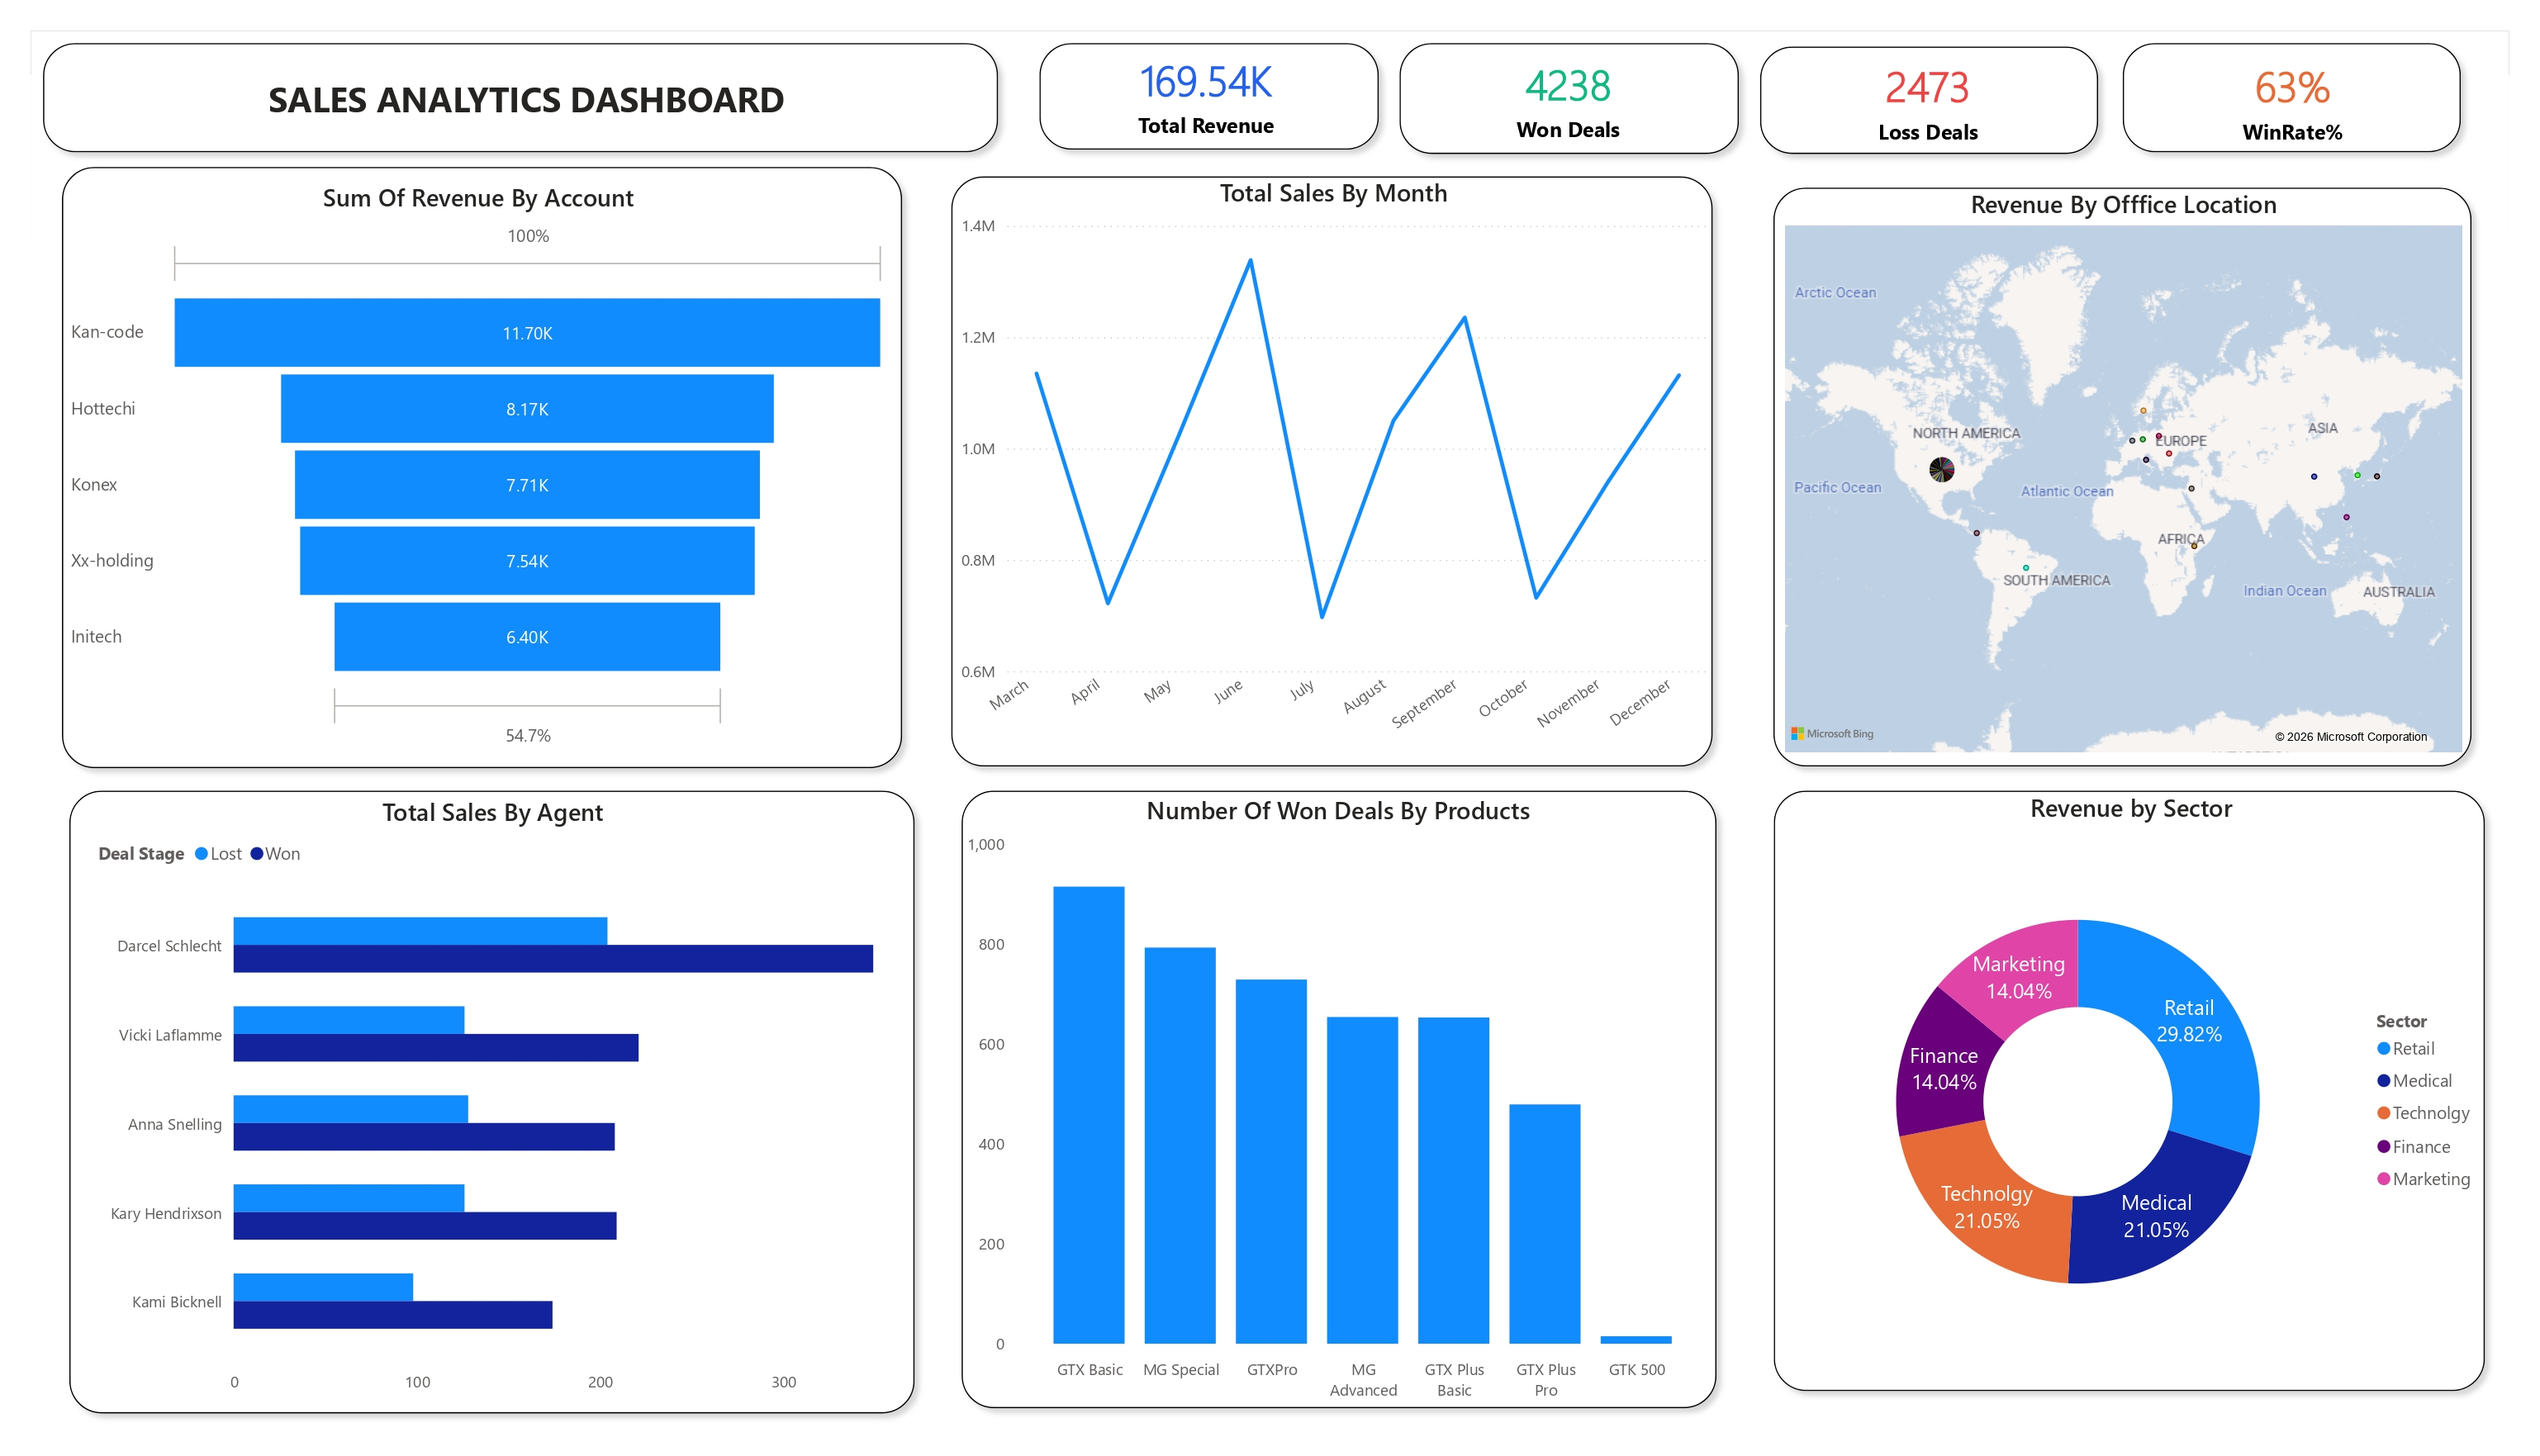

This screenshot's page, from the dashboard's own definition file:
{"tool":"powerbi","page":{"name":"Page 1","canvas":[1920,1080],"ordinal":0},"visuals":[{"type":"group","id":"g1","title":"Title","box":[0,0,762.7,103],"z":0},{"type":"shape","box":[0,0,758,103],"z":0,"group":"g1"},{"type":"shape","box":[771.6,0,280.6,101.5],"z":0,"group":"g10"},{"type":"shape","box":[1050.7,0,280.7,103.5],"z":0,"group":"g8"},{"type":"shape","box":[1611.9,0,280.3,103.5],"z":0,"group":"g11"},{"type":"shape","box":[1331.3,3,280,100.5],"z":0,"group":"g9"},{"type":"shape","box":[0,95.5,694,483.6],"z":0,"group":"g5"},{"type":"shape","box":[694,103,628.4,476.1],"z":0,"group":"g3"},{"type":"shape","box":[1335.8,111.9,568.7,467.2],"z":0,"group":"g4"},{"type":"shape","box":[20.9,579.1,673.1,501.5],"z":0,"group":"g2"},{"type":"shape","box":[707.5,579.1,613.4,497],"z":0,"group":"g6"},{"type":"shape","box":[1335.8,579.1,579.1,483.6],"z":0,"group":"g7"},{"type":"card","fields":{"Values":["sales_pipeline.Total Revenue"]},"box":[781,1.5,258.7,93.9],"z":1000,"group":"g10"},{"type":"card","fields":{"Values":["sales_pipeline.valuewon"]},"box":[1619.5,6,265.7,95.5],"z":1000,"group":"g11"},{"type":"card","fields":{"Values":["CountNonNull(sales_pipeline.close_value)"]},"box":[1056.4,7.7,268.6,88.1],"z":1000,"group":"g8"},{"type":"card","fields":{"Values":["CountNonNull(sales_pipeline.close_value)"]},"box":[1340.6,10.5,259.5,85.5],"z":1000,"group":"g9"},{"type":"textbox","box":[4.7,19.1,758,81.7],"z":1000,"group":"g1"},{"type":"lineChart","title":"Total Sales By  Month","fields":{"Y":["Sum(sales_pipeline.close_value)"],"Category":["sales_pipeline.close_date.Variation.Date Hierarchy.Month"]},"box":[714.9,112,589.6,452.2],"z":1000,"group":"g3"},{"type":"funnel","title":"Sum Of Revenue By Account","fields":{"Category":["Accounts.account"],"Y":["Sum(Accounts.revenue)"]},"box":[26.4,115.4,641.3,446],"z":1000,"group":"g5"},{"type":"map","title":"Revenue By Offfice Location","fields":{"Category":["Accounts.office_location"],"Series":["Accounts.revenue"],"Size":["CountNonNull(Accounts.revenue)"]},"box":[1358.5,121,525.4,443.1],"z":1000,"group":"g4"},{"type":"group","id":"g2","title":"close value By sales agent and deal stage","box":[20.9,579.1,673.1,501.5],"z":1000},{"type":"donutChart","fields":{"Category":["Accounts.sector"],"Y":["CountNonNull(Accounts.revenue)"]},"box":[1349.5,589.4,555.2,455.2],"z":1000,"group":"g7"},{"type":"clusteredColumnChart","title":"Number Of Won Deals By Products","fields":{"Category":["sales_pipeline.product"],"Y":["CountNonNull(sales_pipeline.opportunity_id)"]},"box":[720.2,590.9,586.6,477.6],"z":1000,"group":"g6"},{"type":"clusteredBarChart","title":"Total Sales By Agent","fields":{"Category":["sales_pipeline.sales_agent"],"Y":["CountNonNull(sales_pipeline.close_value)"],"Series":["sales_pipeline.deal_stage"]},"box":[46.4,592.4,622.4,473.1],"z":1000,"group":"g2"},{"type":"group","id":"g3","title":"Close value by month","box":[694,103,628.4,476.1],"z":2000},{"type":"group","id":"g4","title":"revenue by office loaction","box":[1335.8,111.9,568.7,467.2],"z":3000},{"type":"group","id":"g5","title":"revenue by account","box":[0,95.5,694,483.6],"z":4000},{"type":"group","id":"g6","title":"Opprtunity by product","box":[707.5,579.1,613.4,497],"z":5000},{"type":"group","id":"g7","title":"Revenue By Sector","box":[1335.8,579.1,579.1,483.6],"z":6000},{"type":"group","id":"g8","title":"close value won","box":[1050.7,0,280.6,103],"z":7000},{"type":"group","id":"g9","title":"close value lost","box":[1331.3,3,280.6,100],"z":8000},{"type":"group","id":"g10","title":"total value","box":[771.6,0,280.6,101.5],"z":9000},{"type":"group","id":"g11","title":"winrate%","box":[1611.9,0,280.3,103.5],"z":10000}]}

Visuals, with their boxes in screenshot pixels (x1, y1, x2, y2):
"Title" group: box=[0, 20, 976, 154]
shape: box=[0, 20, 969, 154]
shape: box=[987, 20, 1353, 152]
shape: box=[1351, 20, 1717, 154]
shape: box=[2083, 20, 2449, 154]
shape: box=[1717, 24, 2082, 154]
shape: box=[0, 145, 885, 775]
shape: box=[885, 154, 1706, 775]
shape: box=[1723, 166, 2465, 775]
shape: box=[7, 775, 885, 1430]
shape: box=[903, 775, 1703, 1424]
shape: box=[1723, 775, 2478, 1406]
card - sales_pipeline.Total Revenue: box=[999, 21, 1336, 145]
card - sales_pipeline.valuewon: box=[2093, 27, 2440, 152]
card - CountNonNull(sales_pipeline.close_value): box=[1358, 30, 1709, 145]
card - CountNonNull(sales_pipeline.close_value): box=[1729, 34, 2068, 145]
textbox: box=[0, 45, 976, 151]
"Total Sales By  Month" lineChart: box=[913, 166, 1682, 756]
"Sum Of Revenue By Account" funnel: box=[15, 170, 852, 752]
"Revenue By Offfice Location" map: box=[1753, 178, 2438, 756]
"close value By sales agent and deal stage" group: box=[7, 775, 885, 1430]
donutChart - Accounts.sector x CountNonNull(Accounts.revenue): box=[1740, 789, 2465, 1382]
"Number Of Won Deals By Products" clusteredColumnChart: box=[919, 790, 1685, 1414]
"Total Sales By Agent" clusteredBarChart: box=[40, 793, 852, 1410]
"Close value by month" group: box=[885, 154, 1706, 775]
"revenue by office loaction" group: box=[1723, 166, 2465, 775]
"revenue by account" group: box=[0, 145, 885, 775]
"Opprtunity by product" group: box=[903, 775, 1703, 1424]
"Revenue By Sector" group: box=[1723, 775, 2478, 1406]
"close value won" group: box=[1351, 20, 1717, 154]
"close value lost" group: box=[1717, 24, 2083, 154]
"total value" group: box=[987, 20, 1353, 152]
"winrate%" group: box=[2083, 20, 2449, 154]
